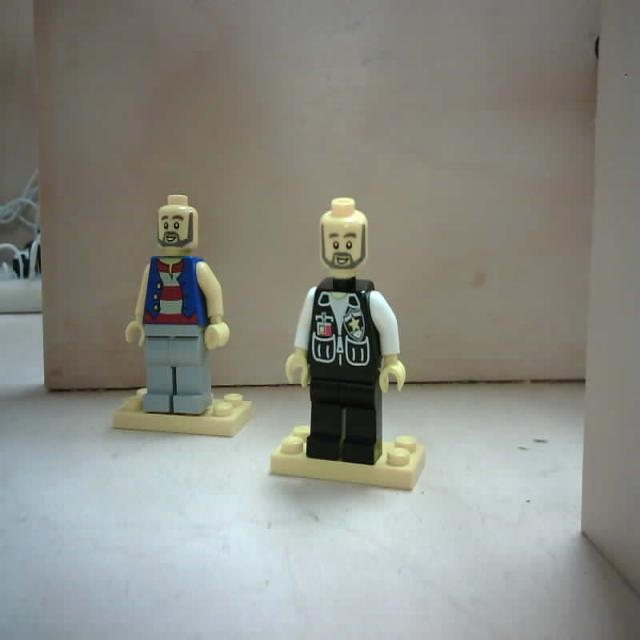Lego-People: (268, 195, 428, 494), (113, 193, 254, 440)
